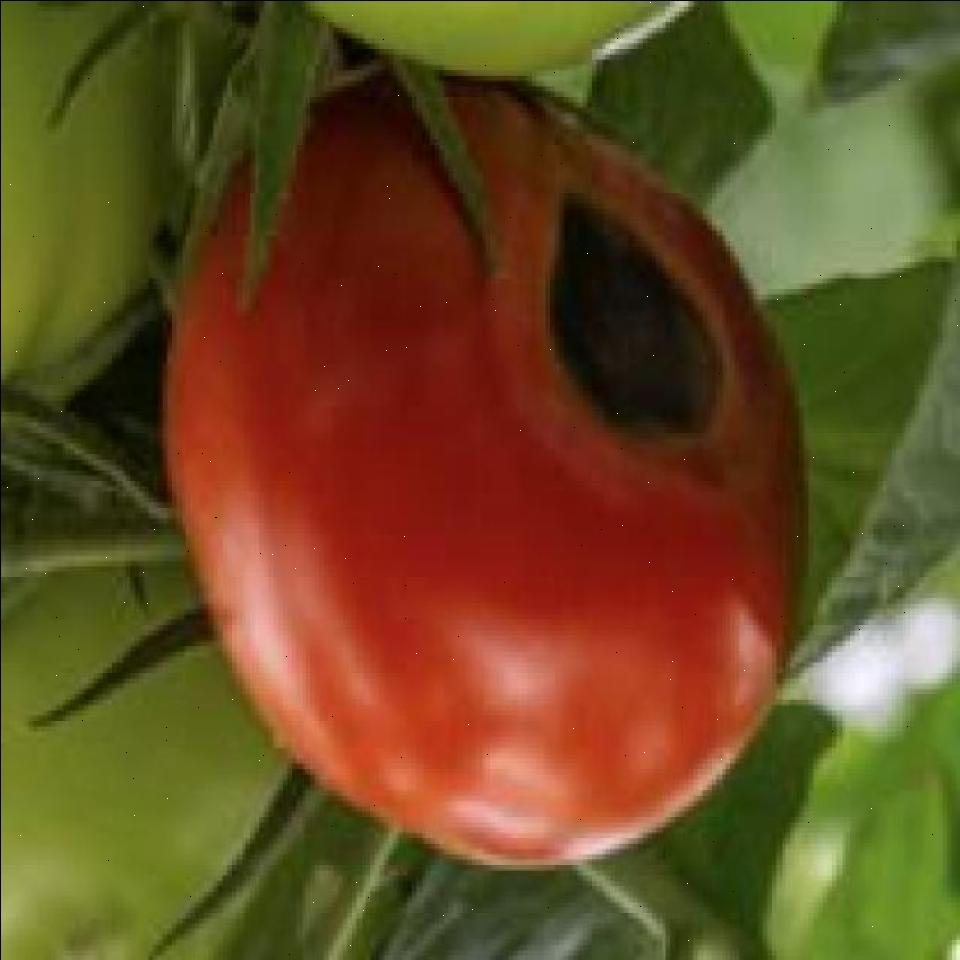Blossom_end_rot: (503, 170, 734, 492)
